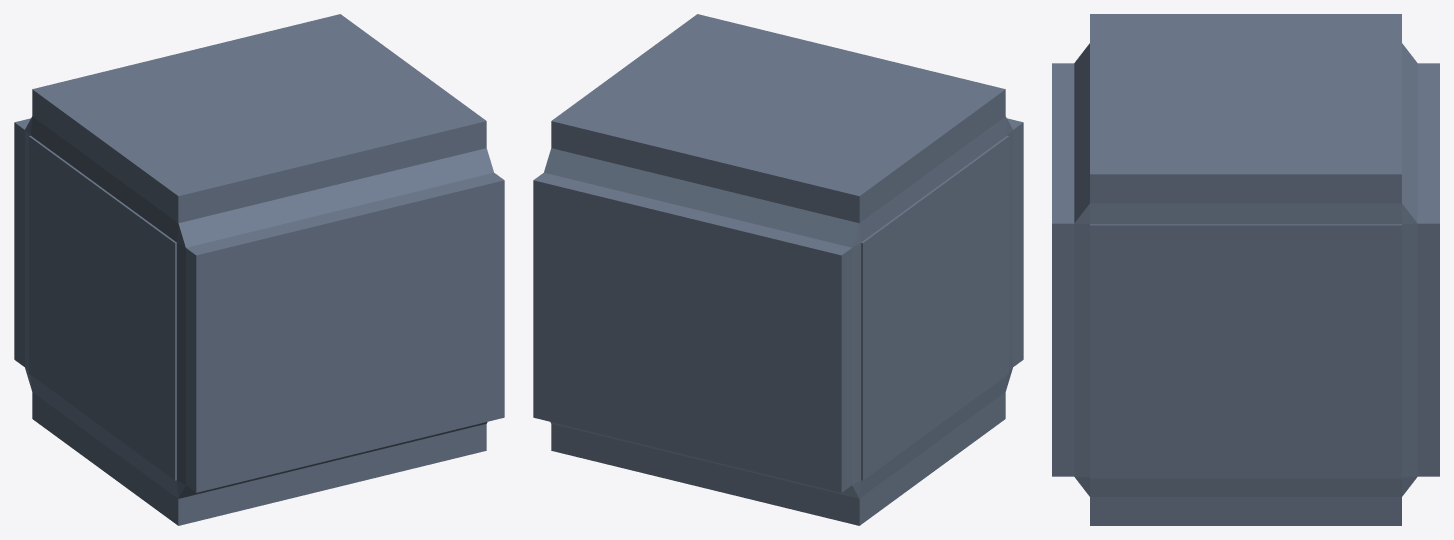
Rendered from bb_comp_GripRig_RigBrace.fbx.
3 views of the same model, side by side, from view 1: azimuth 30°, elevation 25°; view 2: azimuth 150°, elevation 25°; view 3: azimuth 270°, elevation 25° (orthographic). The views are drawn at different scales.
Parts seen in each view (by area): view 1: bb_comp_GripRig_RigBrace; view 2: bb_comp_GripRig_RigBrace; view 3: bb_comp_GripRig_RigBrace.
Boxes of the visible parts, x1=… form: bb_comp_GripRig_RigBrace: x1=14, y1=14, x2=504, y2=525; bb_comp_GripRig_RigBrace: x1=533, y1=14, x2=1023, y2=525; bb_comp_GripRig_RigBrace: x1=1052, y1=14, x2=1439, y2=525.
Size of the model in its own units: 1 by 1 by 1.
